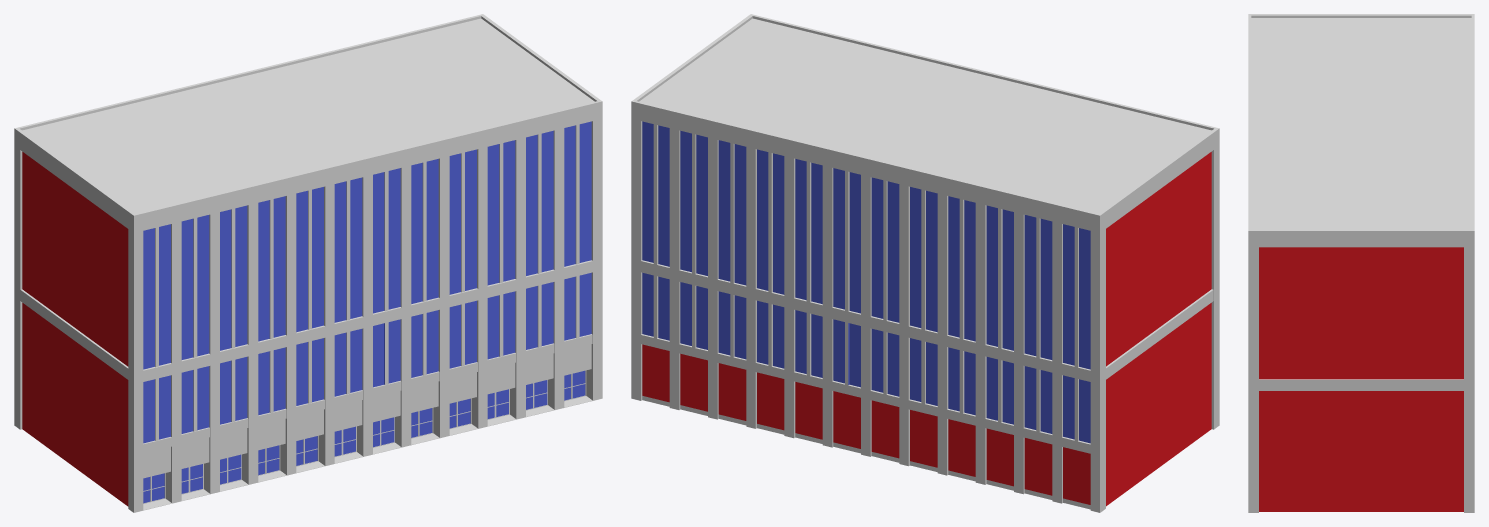
The model's file is building23.fbx.
3 renders of one model, left to right at view 1: azimuth 30°, elevation 25°; view 2: azimuth 150°, elevation 25°; view 3: azimuth 270°, elevation 25°, orthographic. The views are drawn at different scales.
Visible parts, largest first — view 1: building12; view 2: building12; view 3: building12.
Boxes of the visible parts, <box> form: building12: <box>14,14,602,512</box>; building12: <box>631,14,1219,512</box>; building12: <box>1248,14,1474,512</box>.
Size of the model in its own units: 6309 by 3823 by 2784.
